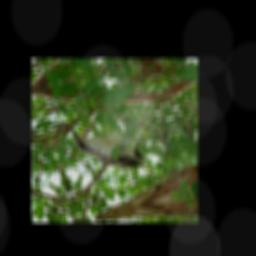Cuckoo: (70, 114, 150, 182)
